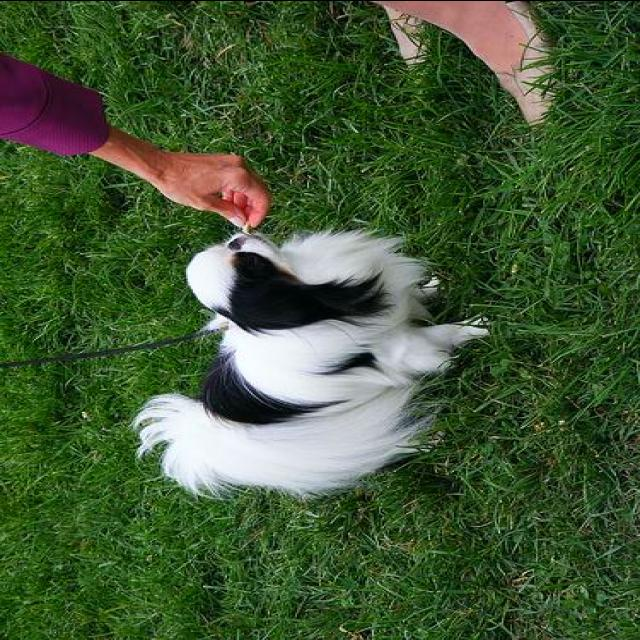husky: (134, 226, 492, 502)
